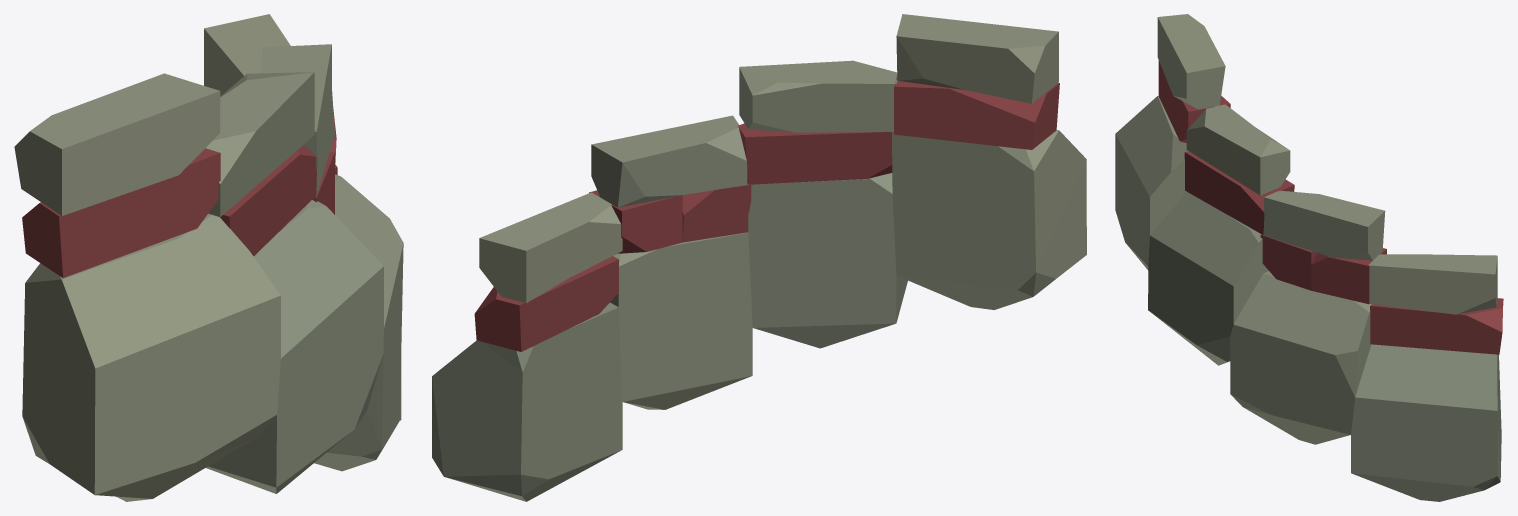
The model's file is stair_spiral_railing_clock.fbx.
3 views of the same model, side by side, from view 1: azimuth 30°, elevation 25°; view 2: azimuth 150°, elevation 25°; view 3: azimuth 270°, elevation 25° (orthographic). The views are drawn at different scales.
Visible parts, largest first — view 1: stair_spiral_railing_clock; view 2: stair_spiral_railing_clock; view 3: stair_spiral_railing_clock.
Boxes of the visible parts, x1,y1,x2,y2 form: stair_spiral_railing_clock: (14,14,403,501); stair_spiral_railing_clock: (432,14,1086,501); stair_spiral_railing_clock: (1115,14,1503,501).
Bounding box in the file's own units: 230 × 223 × 230.
